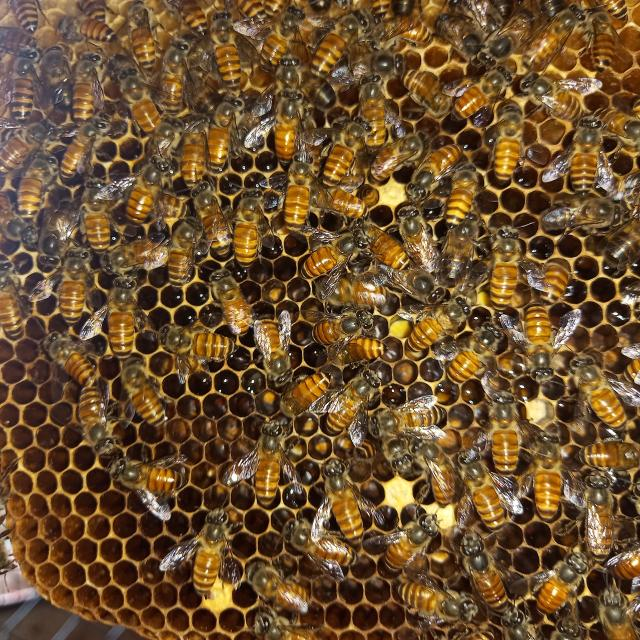honeybee: (467, 391, 559, 474), (222, 416, 303, 504), (497, 305, 585, 381), (166, 508, 240, 598), (467, 226, 549, 304), (543, 117, 620, 197), (566, 351, 640, 434), (242, 562, 322, 637), (312, 459, 382, 544), (365, 506, 448, 576), (453, 450, 525, 530), (84, 274, 153, 357), (523, 432, 585, 524), (300, 221, 372, 297), (278, 505, 356, 574), (456, 534, 518, 618), (292, 310, 380, 368), (158, 322, 242, 382), (577, 470, 634, 558), (234, 5, 314, 67), (198, 11, 257, 94), (36, 248, 102, 322), (396, 297, 476, 358), (108, 454, 183, 519), (515, 71, 610, 122), (310, 372, 377, 444), (215, 183, 272, 266), (247, 90, 309, 166), (266, 154, 327, 231), (484, 0, 553, 67), (521, 5, 591, 71), (481, 105, 540, 182), (395, 577, 481, 626), (74, 177, 130, 250), (443, 64, 513, 121), (310, 120, 370, 186), (160, 36, 204, 126), (104, 158, 168, 218), (418, 440, 472, 511), (53, 49, 108, 118), (531, 550, 589, 615), (121, 352, 170, 427), (434, 211, 484, 284), (431, 163, 488, 226), (406, 144, 469, 201), (351, 76, 399, 147), (190, 183, 237, 255), (444, 324, 502, 382), (43, 331, 102, 388), (2, 51, 48, 124), (119, 65, 167, 134), (206, 271, 258, 333), (309, 15, 361, 77), (207, 94, 248, 172), (122, 0, 163, 77), (168, 212, 206, 294), (584, 8, 632, 72), (544, 195, 622, 233), (79, 380, 117, 458), (249, 318, 295, 380), (259, 59, 308, 116), (0, 117, 47, 176), (430, 9, 481, 61), (36, 200, 85, 254), (109, 232, 169, 276), (401, 67, 454, 116), (526, 258, 580, 306), (368, 136, 426, 180), (369, 403, 447, 435), (334, 52, 403, 88), (599, 210, 640, 270), (399, 216, 441, 274), (0, 252, 27, 342), (596, 586, 640, 640), (364, 226, 411, 275), (16, 155, 54, 215), (179, 114, 211, 185), (0, 187, 39, 245), (56, 15, 122, 49), (60, 123, 95, 186), (279, 374, 331, 416), (390, 263, 447, 299), (581, 439, 640, 473), (321, 279, 388, 308), (380, 437, 425, 480), (295, 70, 338, 110), (318, 188, 368, 222), (374, 17, 434, 45), (590, 107, 640, 140), (326, 339, 386, 366), (169, 0, 213, 35), (151, 124, 182, 167), (2, 27, 44, 58), (501, 606, 534, 640), (606, 547, 640, 578), (75, 0, 109, 31), (356, 434, 387, 466), (153, 192, 186, 222), (235, 0, 270, 28), (619, 342, 640, 387), (12, 0, 42, 30), (596, 0, 630, 24), (556, 617, 588, 640), (359, 183, 379, 209), (392, 0, 415, 19), (372, 0, 389, 20), (264, 0, 284, 16)
